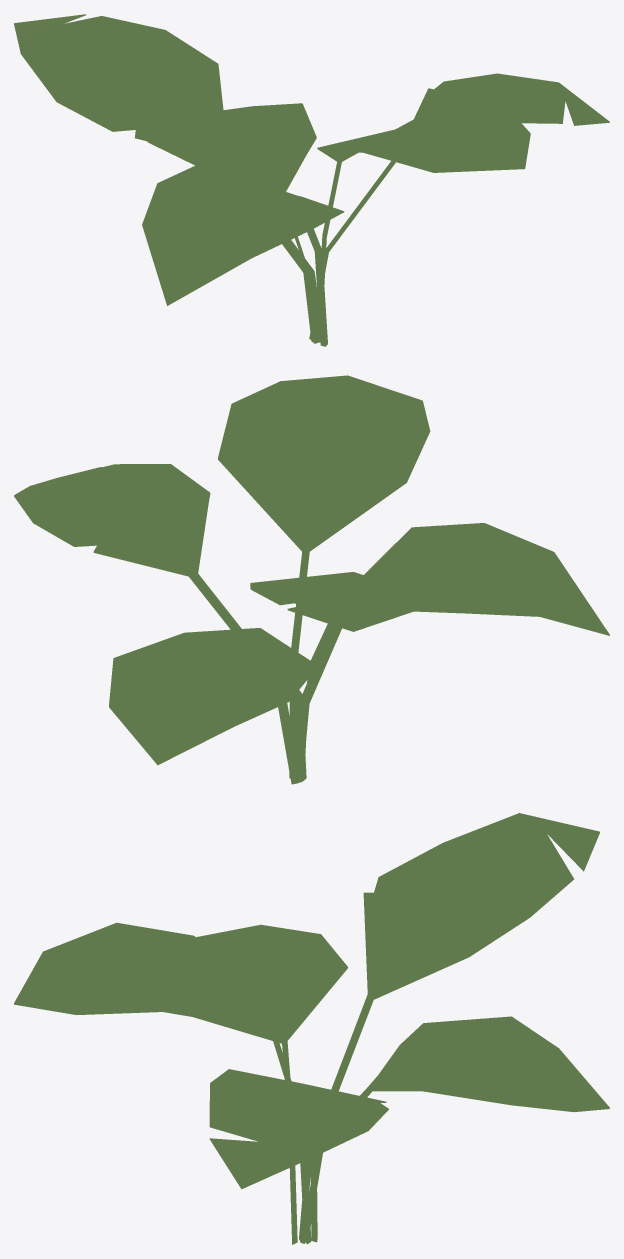
Rendered from Plant_05.fbx.
3 renders of one model, top to bottom at view 1: azimuth 30°, elevation 25°; view 2: azimuth 150°, elevation 25°; view 3: azimuth 270°, elevation 25°, orthographic. The views are drawn at different scales.
Visible parts, largest first — view 1: Plant_05_LOD0; view 2: Plant_05_LOD0; view 3: Plant_05_LOD0.
Boxes of the visible parts, x1,y1,x2,y2 form: Plant_05_LOD0: (14,14,609,346); Plant_05_LOD0: (14,375,609,784); Plant_05_LOD0: (14,813,609,1244).
Size of what is drawn, in the model's own units: 0.6777 by 0.38 by 0.632.
